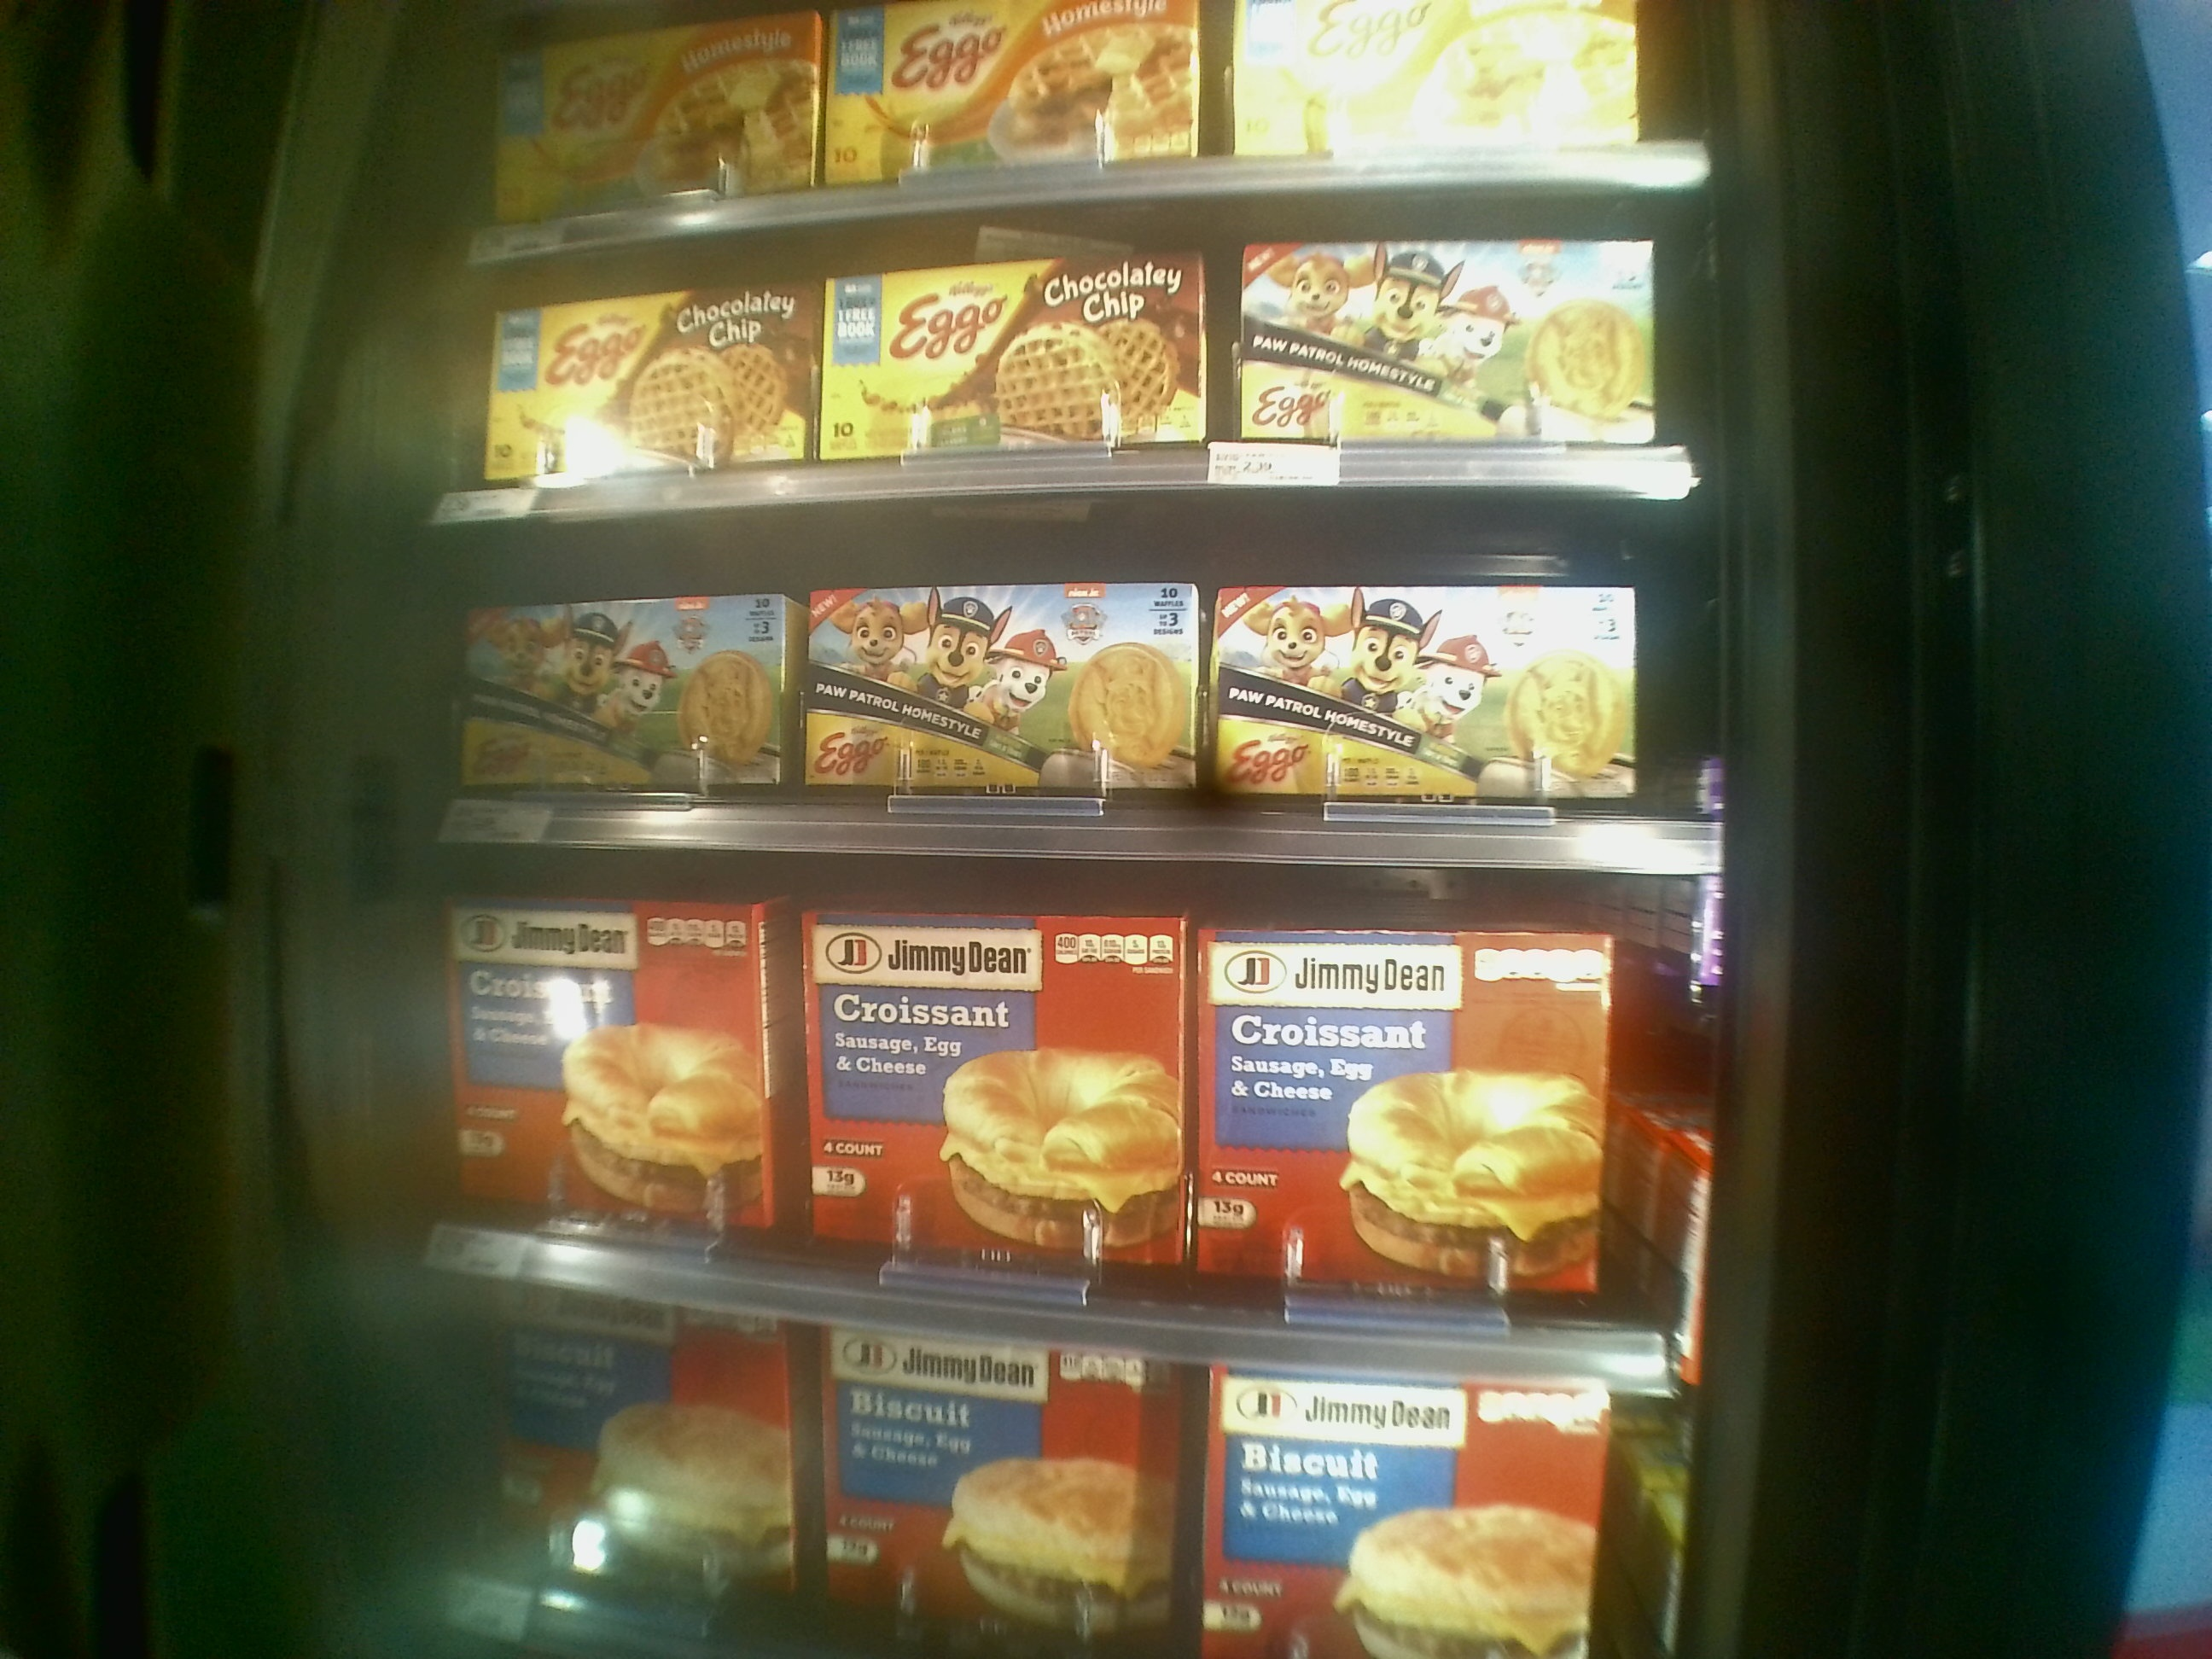frozen-food-shelf: (432, 824, 1785, 1377)
